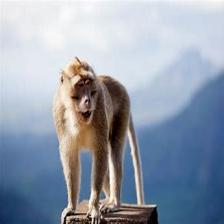monkey: (53, 57, 141, 224)
